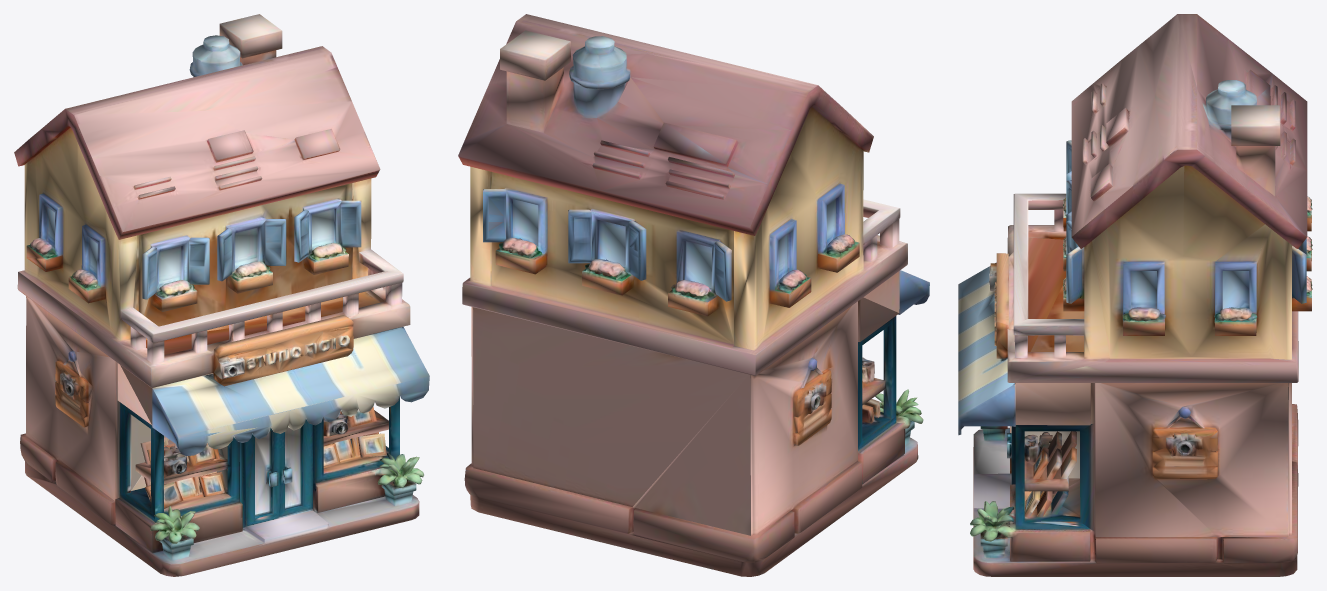
Rendered from studio-foto.glb.
3 views of the same model, side by side, from view 1: azimuth 30°, elevation 25°; view 2: azimuth 150°, elevation 25°; view 3: azimuth 270°, elevation 25° (orthographic). The views are drawn at different scales.
Parts seen in each view (by area): view 1: node_0; view 2: node_0; view 3: node_0.
Part boxes in pixels (box(x1,y1,x2,y2)): node_0: box(14, 14, 429, 576); node_0: box(458, 14, 929, 576); node_0: box(958, 14, 1312, 576).
Size of the model in its own units: 0.6377 by 0.8913 by 0.645.
Materials: 1 (1 with a texture image).
